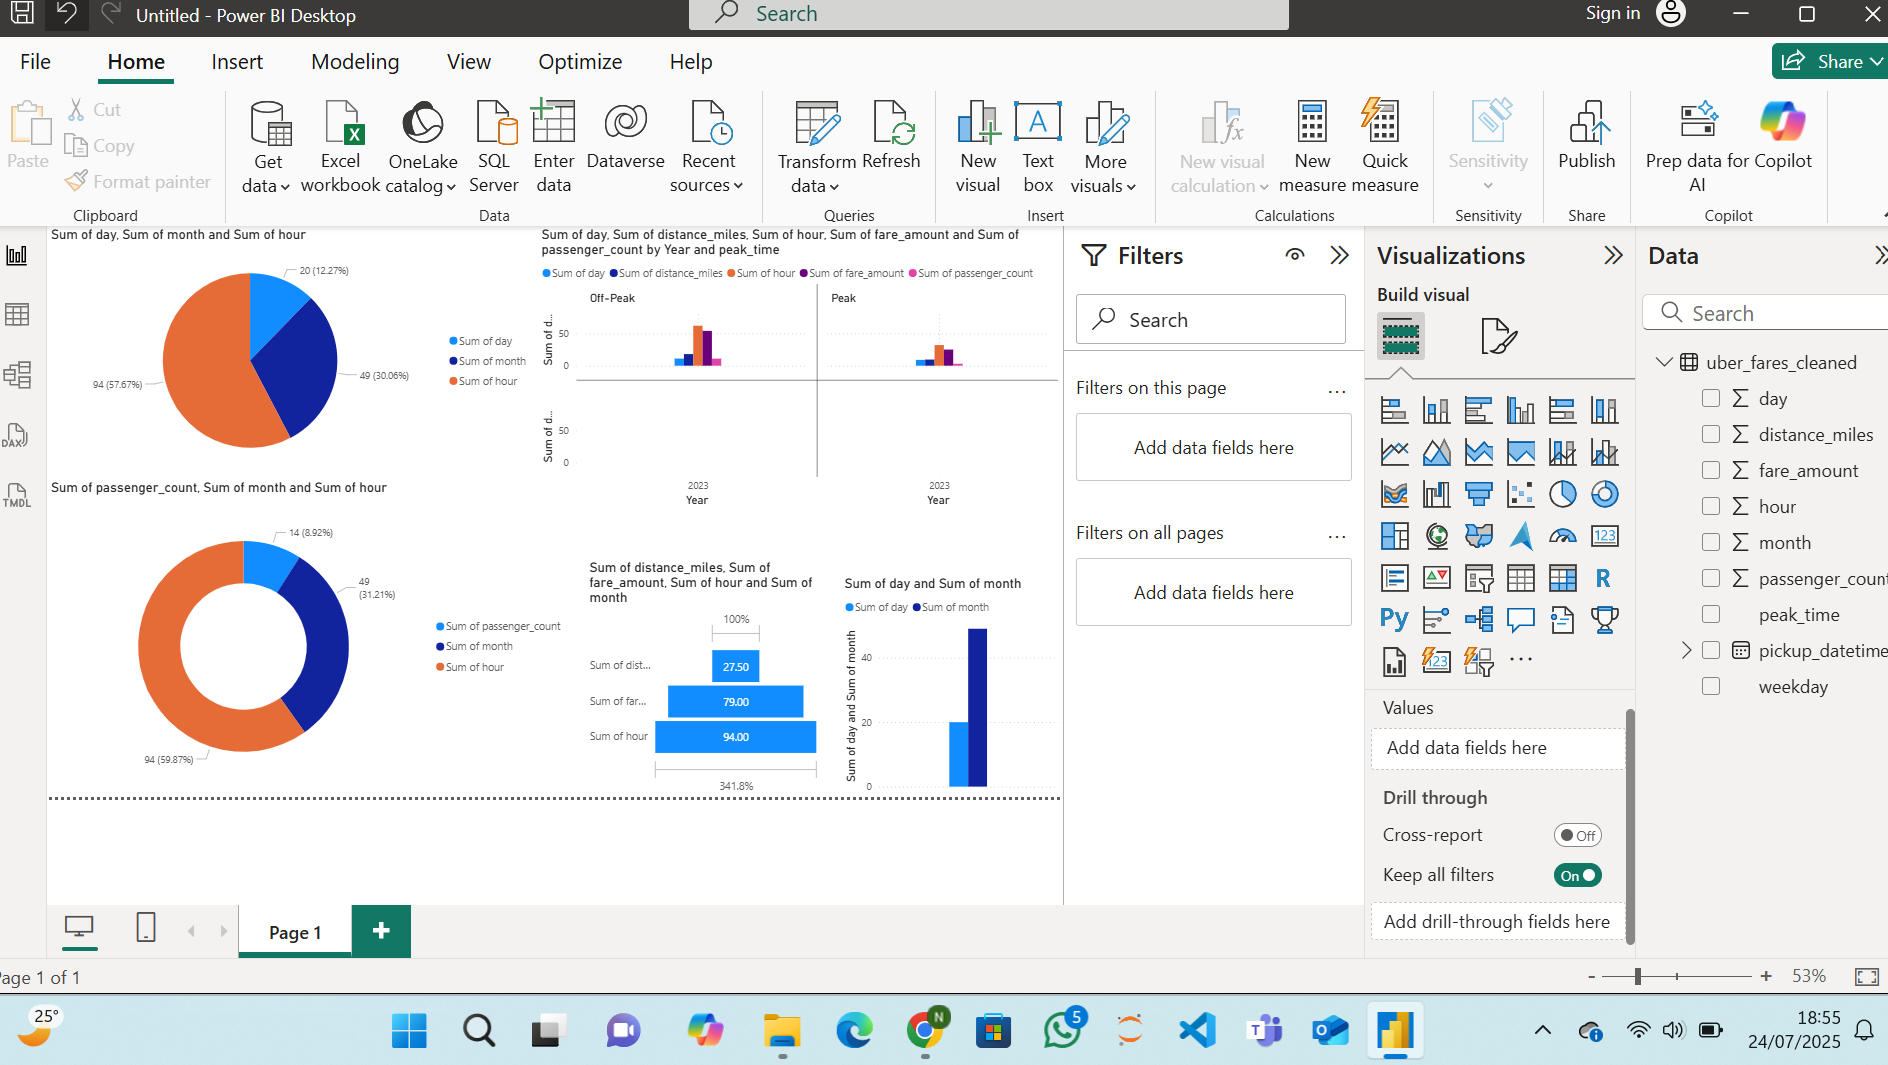

This screenshot's page, from the dashboard's own definition file:
{"tool":"powerbi","page":{"name":"Page 1","canvas":[1280,720],"ordinal":0},"visuals":[{"type":"clusteredColumnChart","fields":{"Y":["Sum(uber_fares_cleaned.day)","Sum(uber_fares_cleaned.month)"]},"box":[999.7,440.3,279.7,279.7],"z":0},{"type":"funnel","fields":{"Y":["Sum(uber_fares_cleaned.distance_miles)","Sum(uber_fares_cleaned.fare_amount)","Sum(uber_fares_cleaned.hour)"]},"box":[678.4,419.5,300.5,300.5],"z":1},{"type":"donutChart","fields":{"Y":["Sum(uber_fares_cleaned.passenger_count)","Sum(uber_fares_cleaned.month)","Sum(uber_fares_cleaned.hour)"]},"box":[0,319.4,661.4,400.6],"z":2},{"type":"lineClusteredColumnComboChart","fields":{"Category":["uber_fares_cleaned.pickup_datetime.Variation.Date Hierarchy.Year","uber_fares_cleaned.pickup_datetime.Variation.Date Hierarchy.Quarter","uber_fares_cleaned.pickup_datetime.Variation.Date Hierarchy.Month","uber_fares_cleaned.pickup_datetime.Variation.Date Hierarchy.Day"],"Y":["Sum(uber_fares_cleaned.day)","Sum(uber_fares_cleaned.distance_miles)","Sum(uber_fares_cleaned.hour)","Sum(uber_fares_cleaned.fare_amount)","Sum(uber_fares_cleaned.passenger_count)"],"Rows":["uber_fares_cleaned.peak_time"]},"box":[618,0,661.4,359.1],"z":3},{"type":"pieChart","fields":{"Y":["Sum(uber_fares_cleaned.day)","Sum(uber_fares_cleaned.month)","Sum(uber_fares_cleaned.hour)"]},"box":[0,0,618,319],"z":4}]}

Visuals, with their boxes on the page's 1280x720 design canvas (x1, y1, x2, y2). These are canvas units, not pixel positions in the 1888x1065 screenshot, which may show the page scaled, cropped or inside an application window:
clusteredColumnChart - Sum(uber_fares_cleaned.day) x Sum(uber_fares_cleaned.month): x1=1000, y1=440, x2=1279, y2=720
funnel - Sum(uber_fares_cleaned.distance_miles) x Sum(uber_fares_cleaned.fare_amount): x1=678, y1=420, x2=979, y2=720
donutChart - Sum(uber_fares_cleaned.passenger_count) x Sum(uber_fares_cleaned.month): x1=0, y1=319, x2=661, y2=720
lineClusteredColumnComboChart - uber_fares_cleaned.pickup_datetime.Variation.Date Hierarchy.Year x uber_fares_cleaned.pickup_datetime.Variation.Date Hierarchy.Quarter: x1=618, y1=0, x2=1279, y2=359
pieChart - Sum(uber_fares_cleaned.day) x Sum(uber_fares_cleaned.month): x1=0, y1=0, x2=618, y2=319
